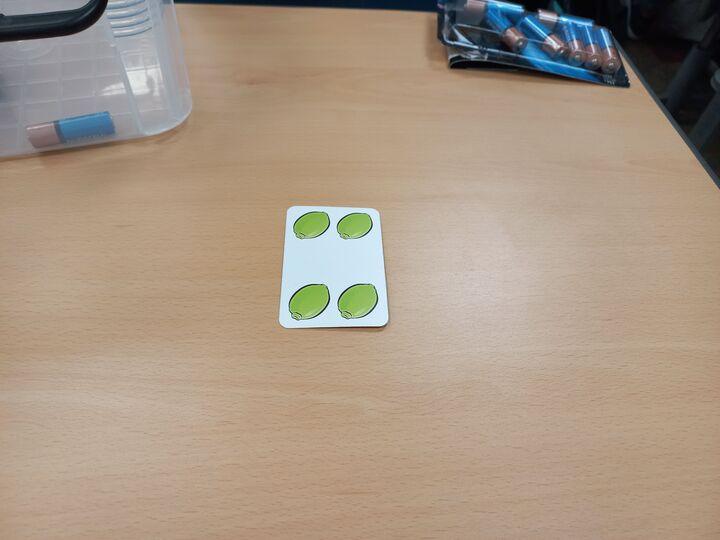lime4: (276, 205, 394, 332)
